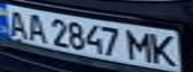2: (45, 16, 69, 48)
4: (84, 22, 106, 55)
7: (100, 25, 124, 57)
8: (66, 19, 87, 52)
A: (21, 11, 48, 43), (3, 7, 30, 38)
K: (148, 32, 181, 68)
M: (124, 28, 157, 63)
